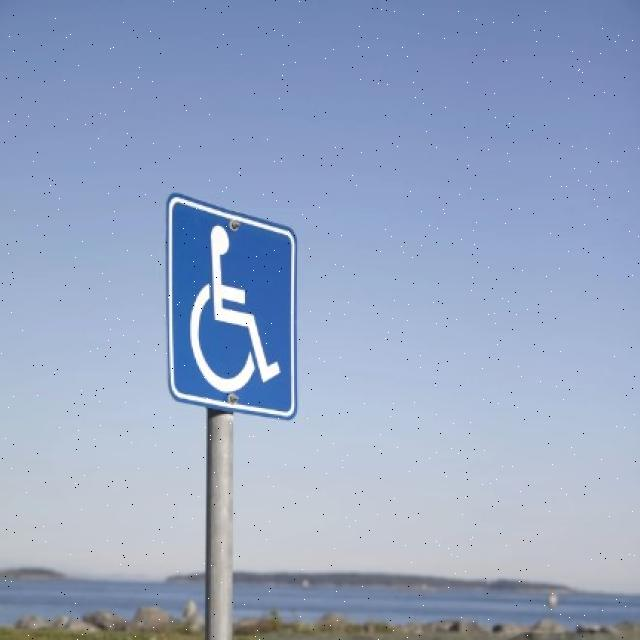symbol_of_access: (165, 192, 298, 418)
